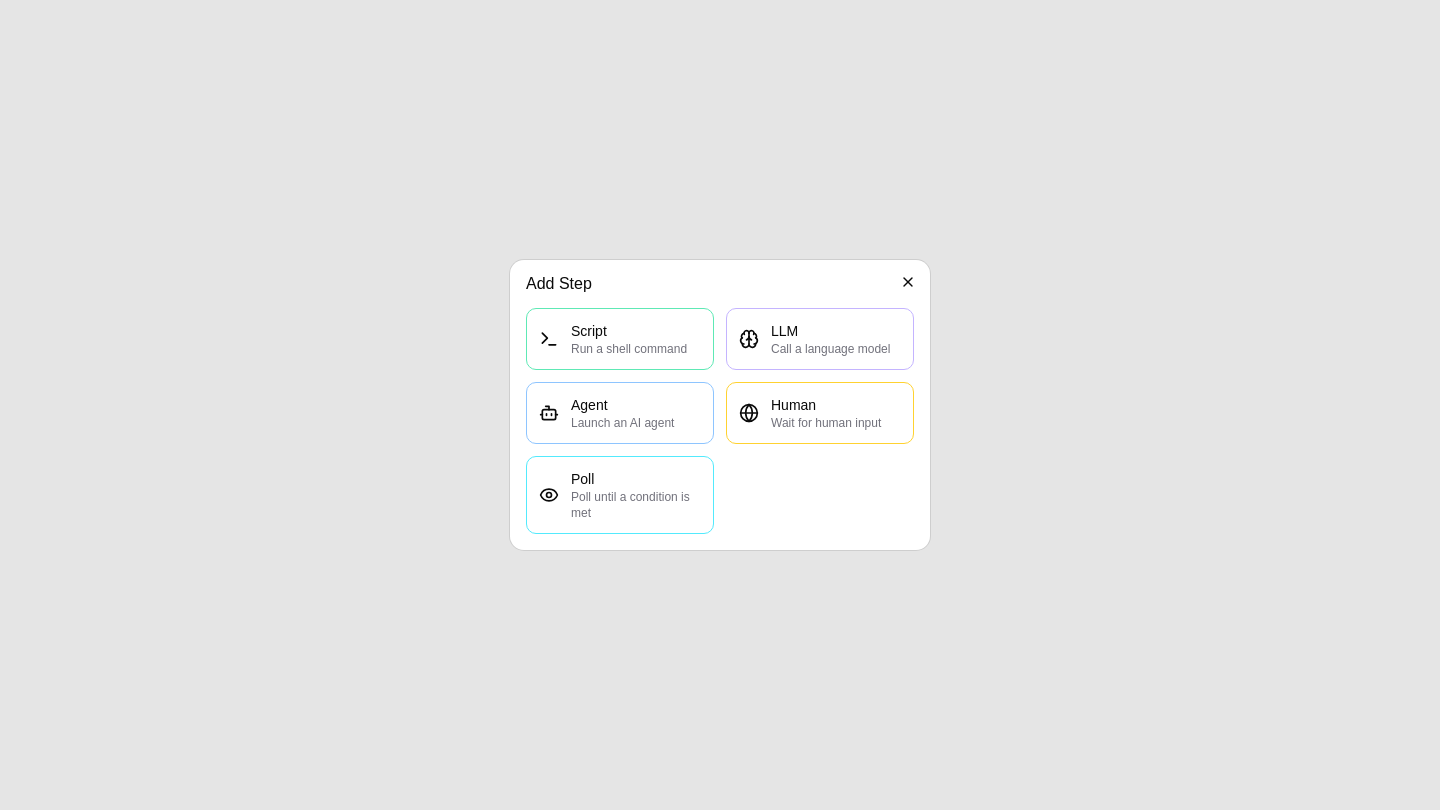
StepPalette › shows error for duplicate step name
Click the text "Script" at (589, 331), box [571,323,607,339]
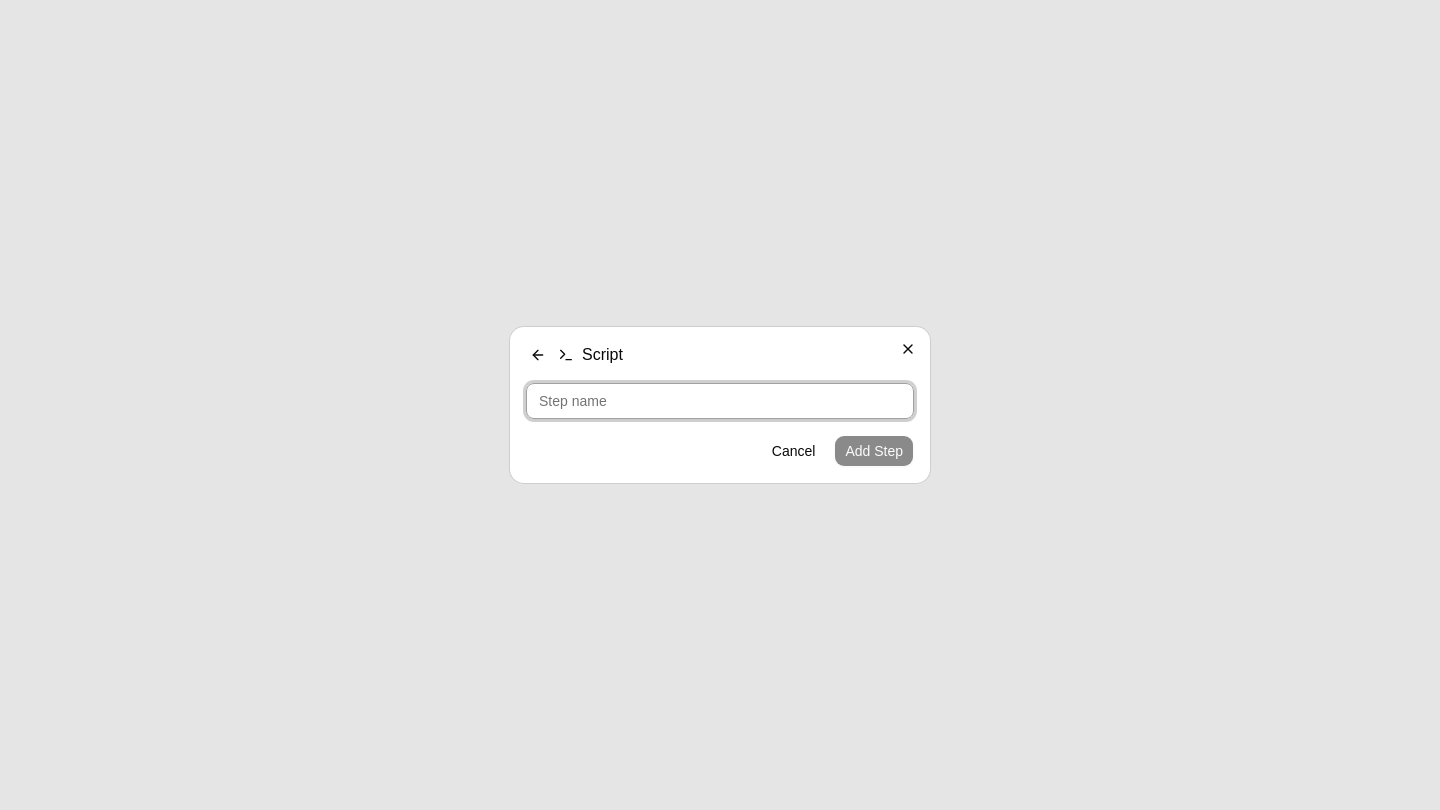
Type "fetch" into the field with placeholder "Step name" at (720, 401), box [526,383,914,419]
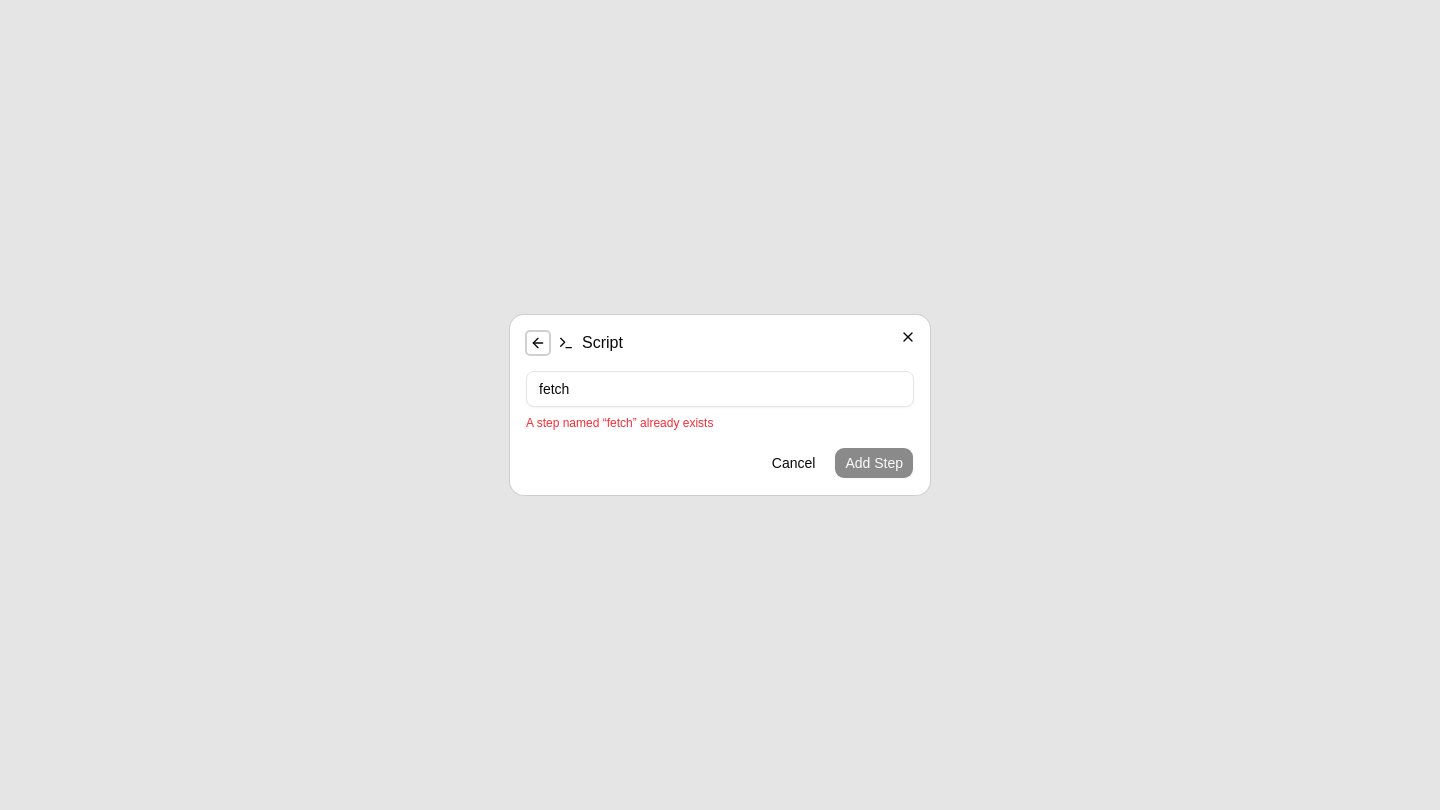
Result: the text "A step named “fetch” already exists" is shown at [526,416,713,430]
